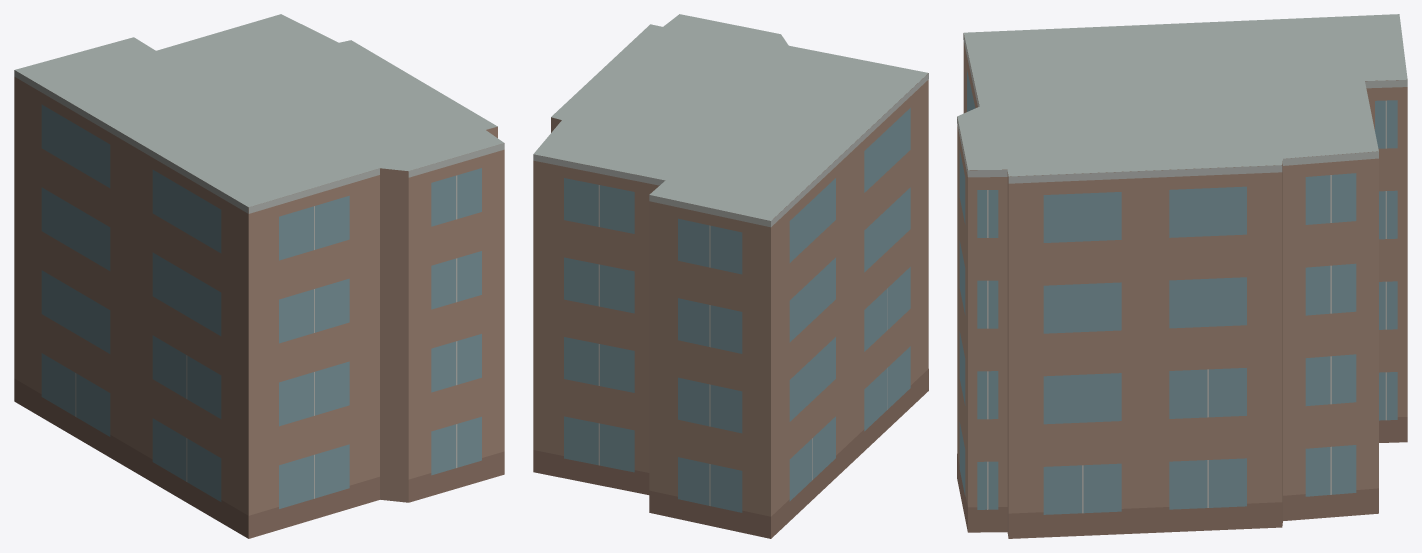
Rendered from survey-upis-32642141.glb.
The picture shows the model from 3 angles, left to right: view 1: azimuth 30°, elevation 25°; view 2: azimuth 150°, elevation 25°; view 3: azimuth 270°, elevation 25°; orthographic projection. The views are drawn at different scales.
Visible parts, largest first — view 1: survey-upis-32642141.tmp; view 2: survey-upis-32642141.tmp; view 3: survey-upis-32642141.tmp.
Boxes of the visible parts, bbox=[...] form: survey-upis-32642141.tmp: bbox=[14, 14, 504, 538]; survey-upis-32642141.tmp: bbox=[533, 14, 928, 538]; survey-upis-32642141.tmp: bbox=[957, 14, 1407, 538].
Bounding box in the file's own units: 11.74 × 12.2 × 13.75.
